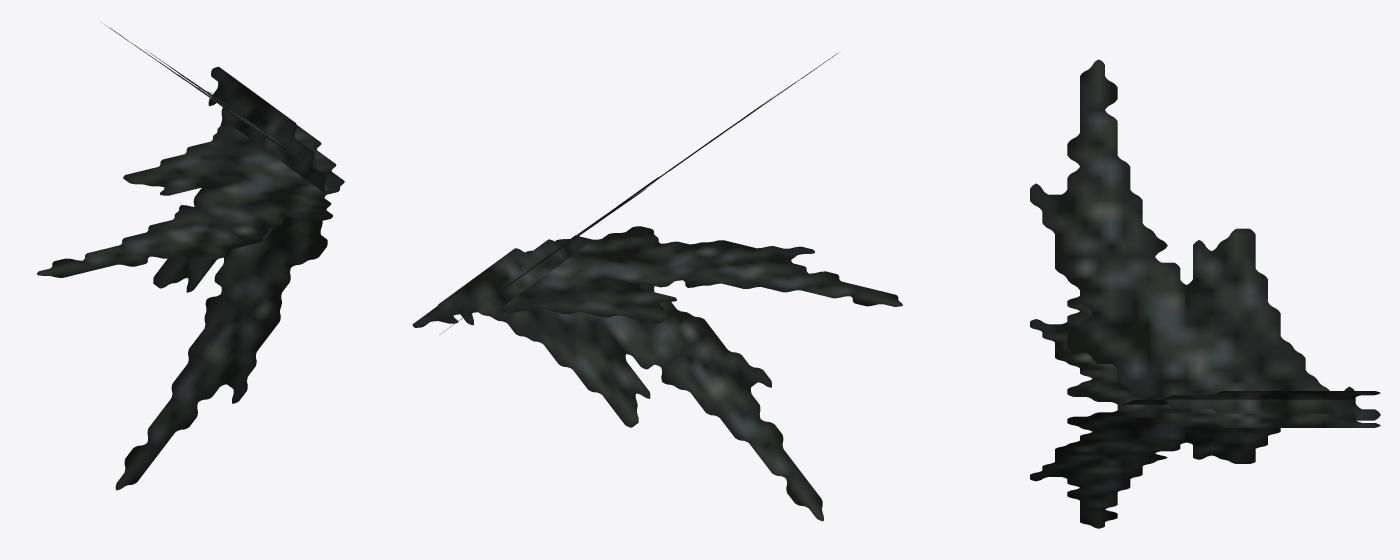
Rendered from SM_EC_Tree_Part_Cross_06.fbx.
The picture shows the model from 3 angles, left to right: view 1: azimuth 30°, elevation 25°; view 2: azimuth 150°, elevation 25°; view 3: azimuth 270°, elevation 25°; orthographic projection. The views are drawn at different scales.
Parts seen in each view (by area): view 1: SM_EC_Tree_Part_Cross_06; view 2: SM_EC_Tree_Part_Cross_06; view 3: SM_EC_Tree_Part_Cross_06.
Boxes of the visible parts, x1,y1,x2,y2 form: SM_EC_Tree_Part_Cross_06: (37,21,344,490); SM_EC_Tree_Part_Cross_06: (412,53,902,521); SM_EC_Tree_Part_Cross_06: (1030,59,1380,528).
Size of the model in its own units: 0.5705 by 0.4849 by 0.7197.
